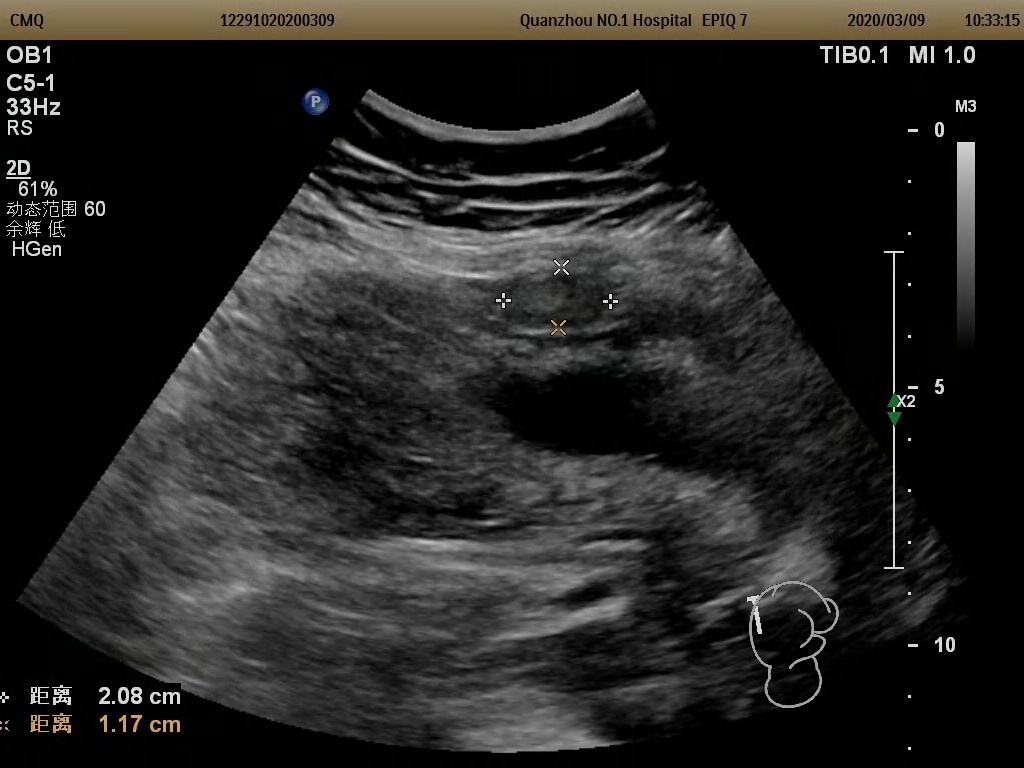肌瘤: (503, 268, 610, 328)
